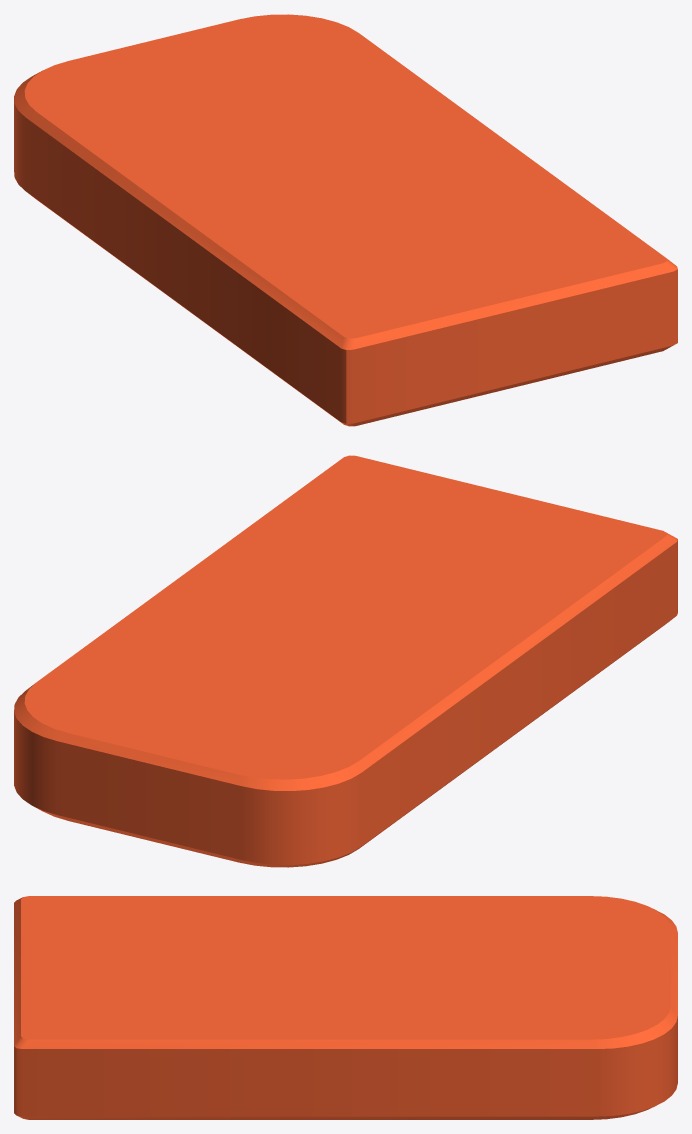
File: p-sideBoard-atas.fbx
3 renders of one model, top to bottom at view 1: azimuth 30°, elevation 25°; view 2: azimuth 150°, elevation 25°; view 3: azimuth 270°, elevation 25°, orthographic. The views are drawn at different scales.
Parts seen in each view (by area): view 1: Cube.206; view 2: Cube.206; view 3: Cube.206.
Boxes of the visible parts, x1=… form: Cube.206: x1=14, y1=14, x2=677, y2=426; Cube.206: x1=14, y1=455, x2=677, y2=867; Cube.206: x1=14, y1=896, x2=677, y2=1119.
Bounding box in the file's own units: 80 × 20 × 150.
